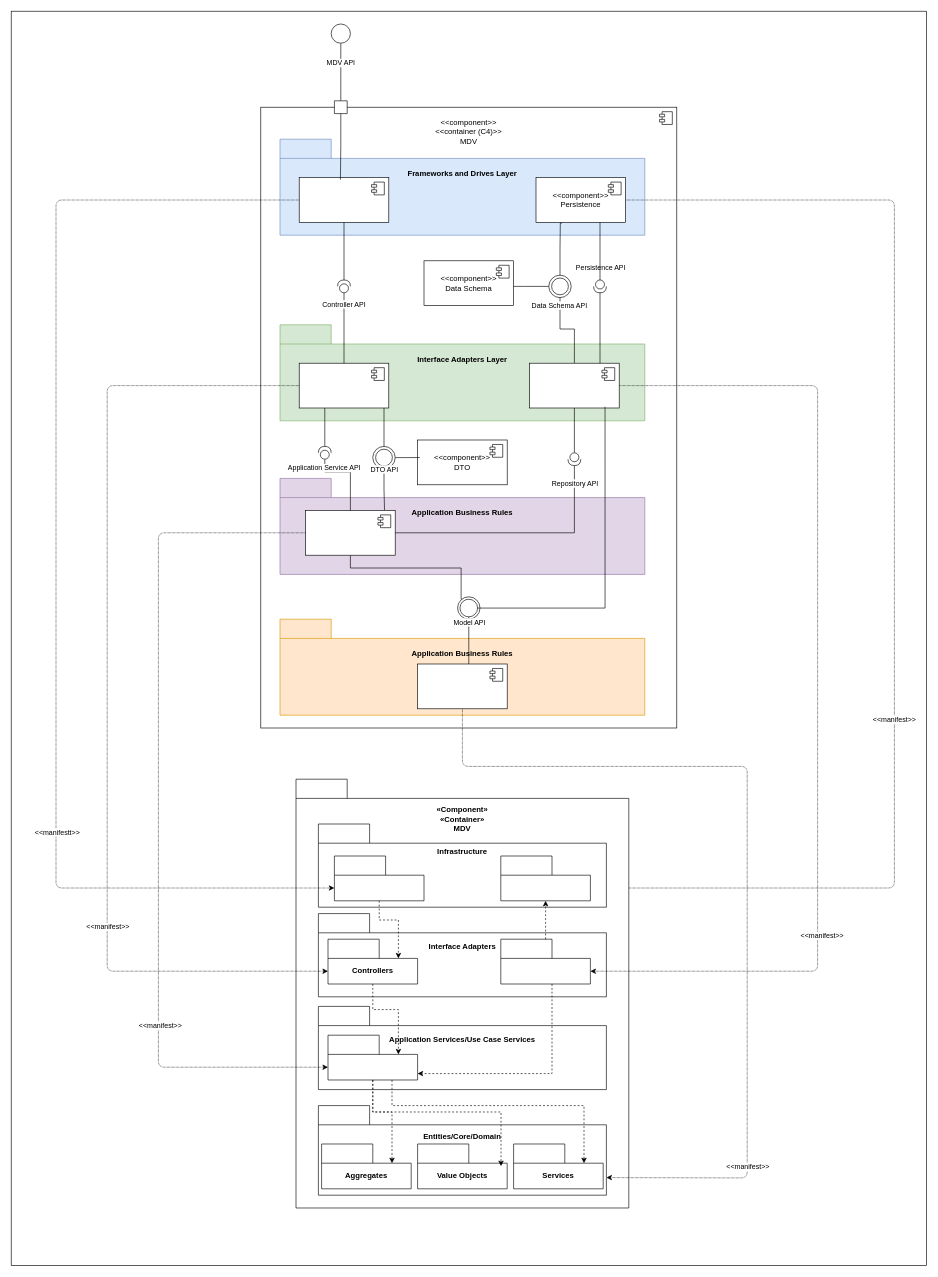
This 938x1277 diagram has some shape labels left out. The centre of each missing label's shape, as x and y in pixels:
"<<component>> Application Service" belongs at (x=350, y=532).
"<<component>> Controller" belongs at (x=344, y=385).
"<<component>> Domain Model (DDD)" belongs at (x=462, y=686).
"<<component>> Repository" belongs at (x=574, y=385).
"<<component>> Routing" belongs at (x=344, y=199).
"App Services" belongs at (x=372, y=1057).
"Persistence" belongs at (x=545, y=878).
"Repositories" belongs at (x=545, y=961).
"Routes" belongs at (x=379, y=878).
